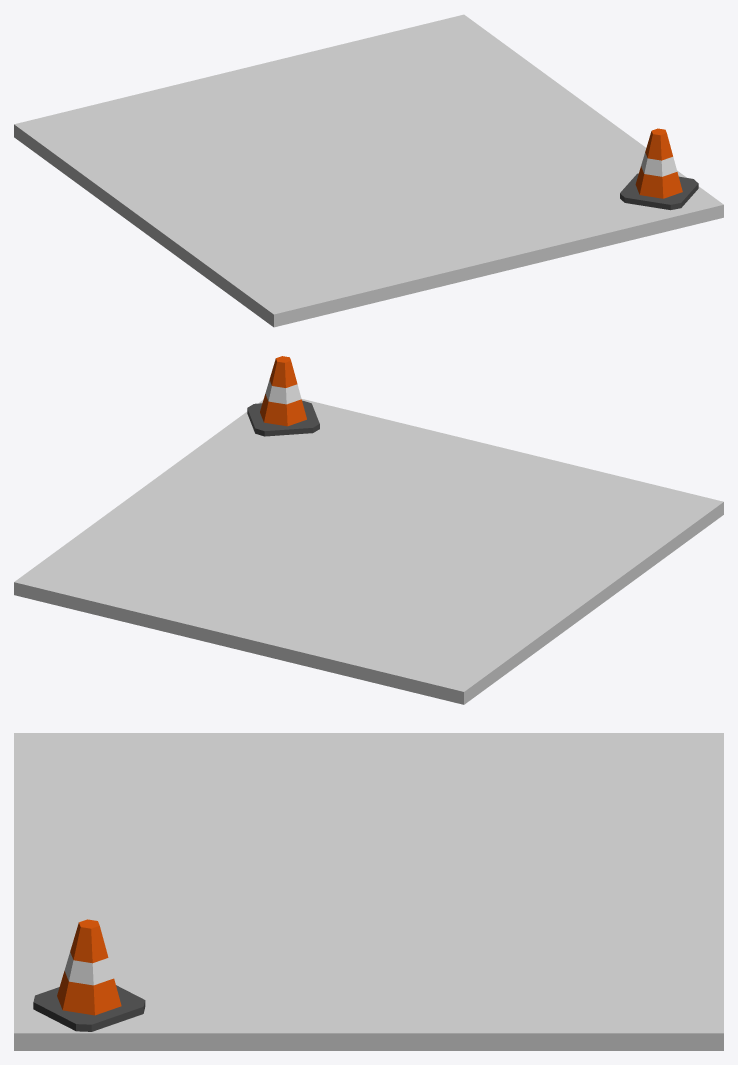
Rendered from droparea.glb.
3 views of the same model, one above another, from view 1: azimuth 30°, elevation 25°; view 2: azimuth 150°, elevation 25°; view 3: azimuth 270°, elevation 25° (orthographic). The views are drawn at different scales.
Parts seen in each view (by area): view 1: Dropzone, Cilindro.001, Cubo_ConstructionMaterial_0; view 2: Dropzone, Cilindro.001, Cubo_ConstructionMaterial_0; view 3: Dropzone, Cilindro.001, Cubo_ConstructionMaterial_0.
Part boxes in pixels (left/top/right/bottom): Dropzone: left=14, top=14, right=723, bottom=327; Cilindro.001: left=635, top=128, right=682, bottom=198; Cubo_ConstructionMaterial_0: left=620, top=173, right=698, bottom=210; Dropzone: left=14, top=399, right=723, bottom=704; Cilindro.001: left=260, top=356, right=306, bottom=426; Cubo_ConstructionMaterial_0: left=247, top=400, right=319, bottom=436; Dropzone: left=14, top=733, right=723, bottom=1050; Cilindro.001: left=57, top=919, right=121, bottom=1015; Cubo_ConstructionMaterial_0: left=33, top=985, right=145, bottom=1031.
Bounding box in the file's own units: 1.8 × 0.2854 × 1.8.
Materials: 2 (1 with a texture image).
